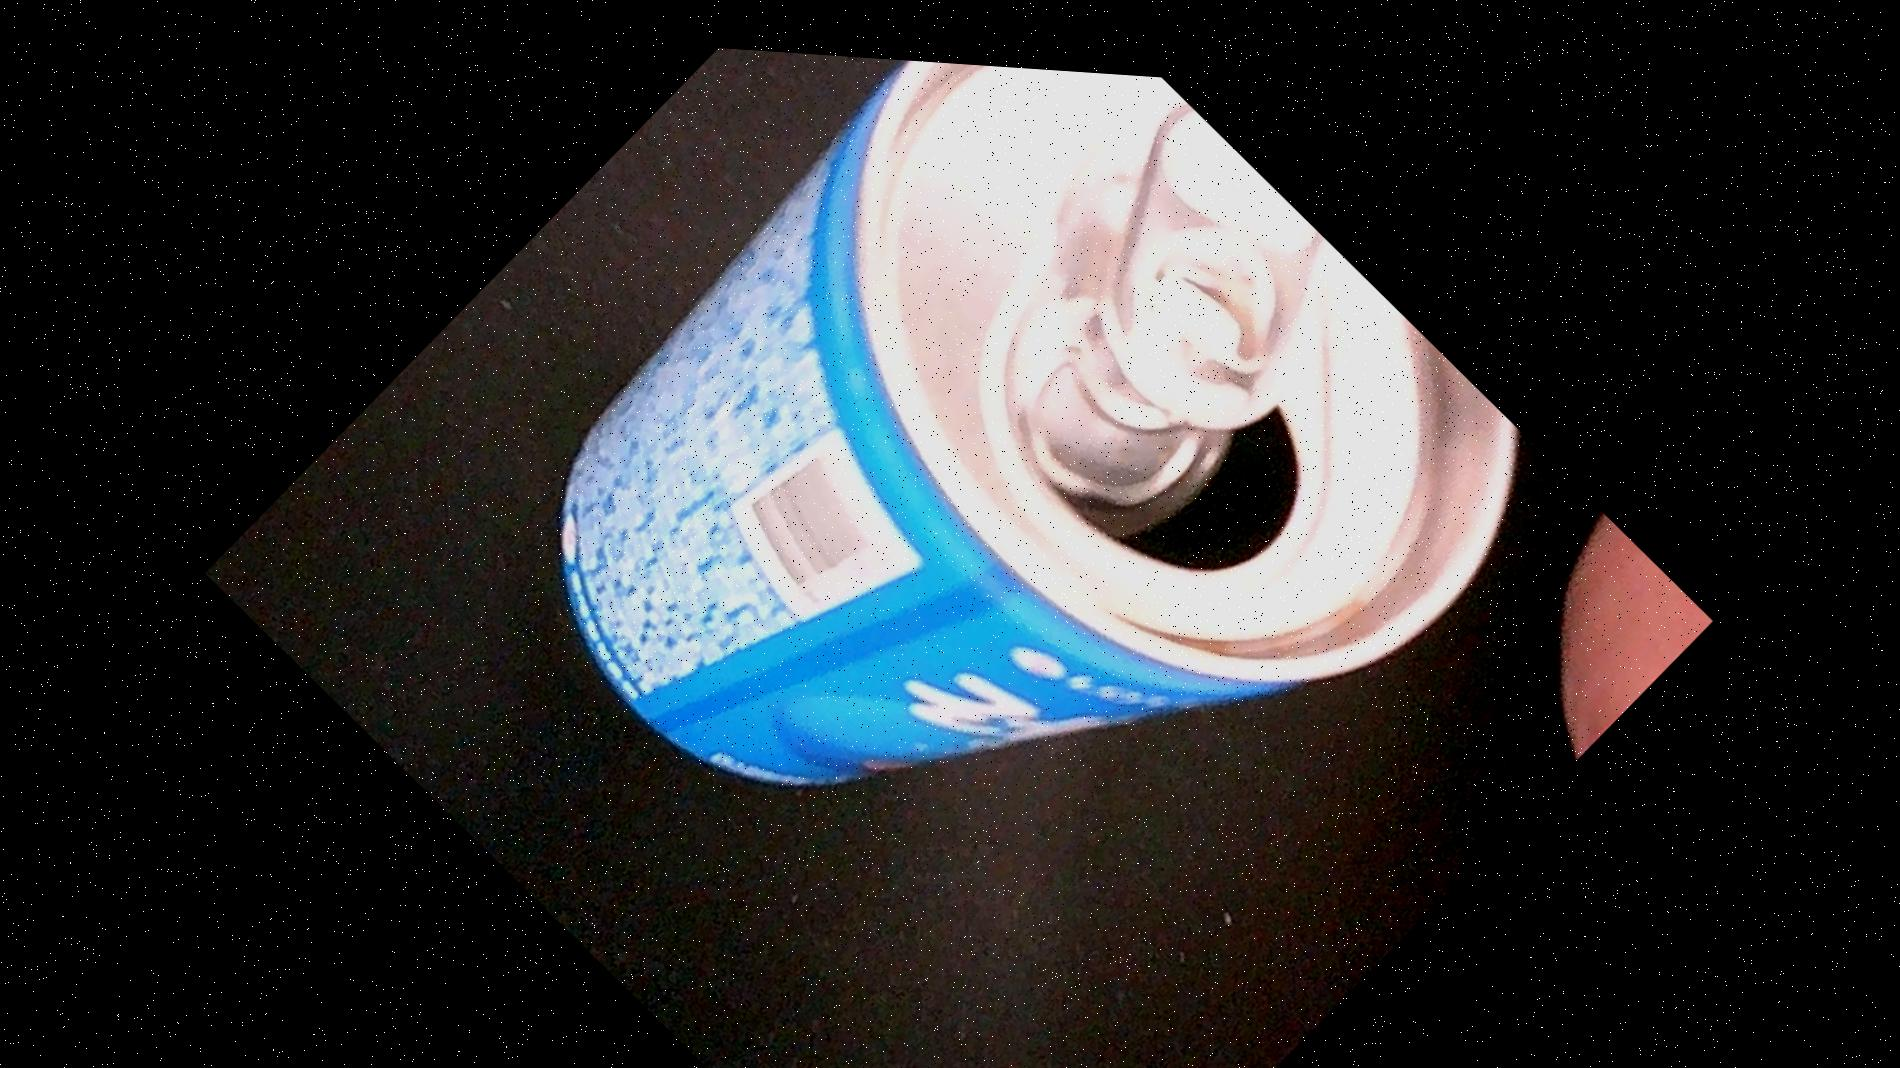letsbe: (435, 22, 1580, 1068)
